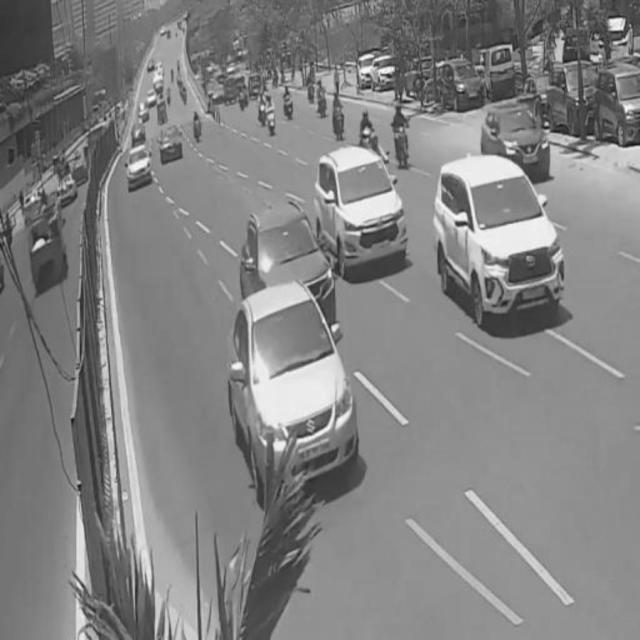vehicle: (227, 291, 361, 491), (435, 149, 567, 333), (236, 208, 339, 326), (310, 147, 408, 265), (478, 99, 554, 185), (594, 65, 640, 155), (25, 201, 67, 294), (545, 63, 596, 133), (125, 145, 155, 189), (393, 105, 411, 172), (329, 88, 349, 145), (159, 123, 184, 164), (359, 111, 379, 156)
